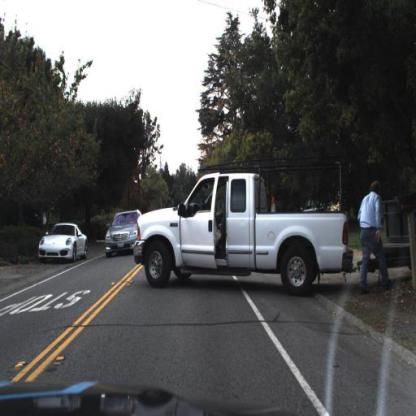car: (33, 210, 90, 269), (100, 200, 147, 267)
pedestrian: (355, 170, 397, 306)
truck: (133, 163, 416, 296)
